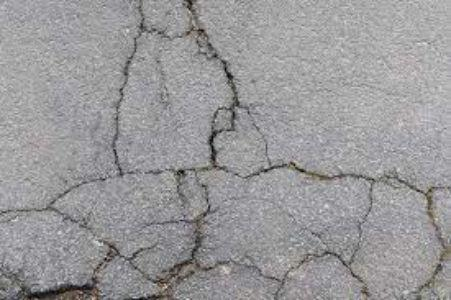alligator-crack: (43, 26, 451, 296), (56, 176, 250, 279), (108, 32, 240, 180), (300, 165, 440, 291)
